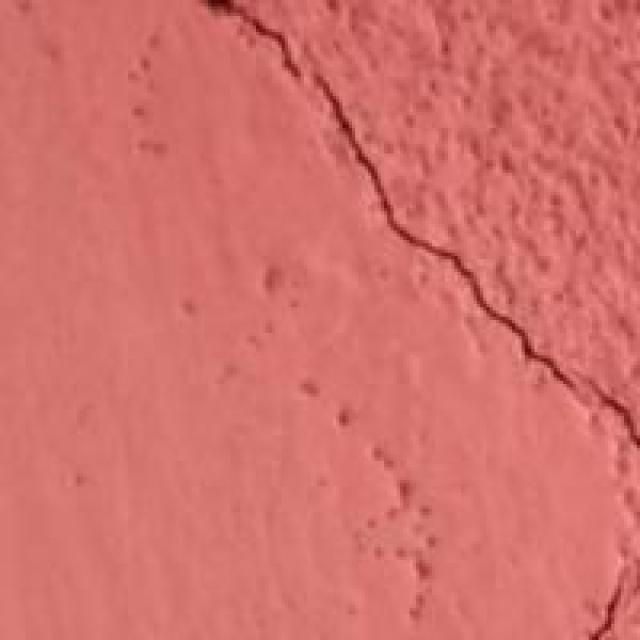crack: (202, 0, 636, 493)
